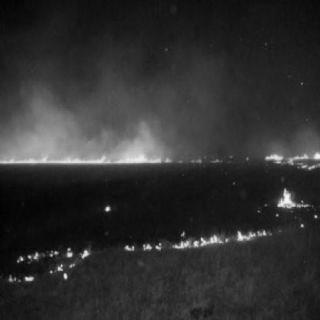Fire: (1, 136, 315, 174)
